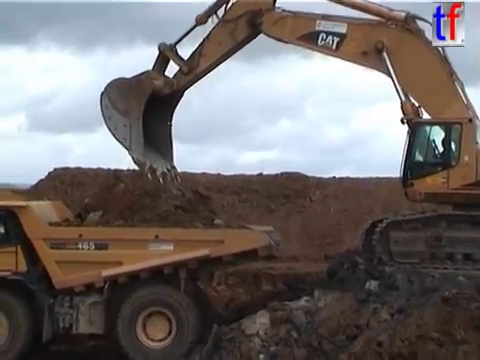excavator: (95, 1, 480, 274)
truck: (1, 186, 283, 360)
